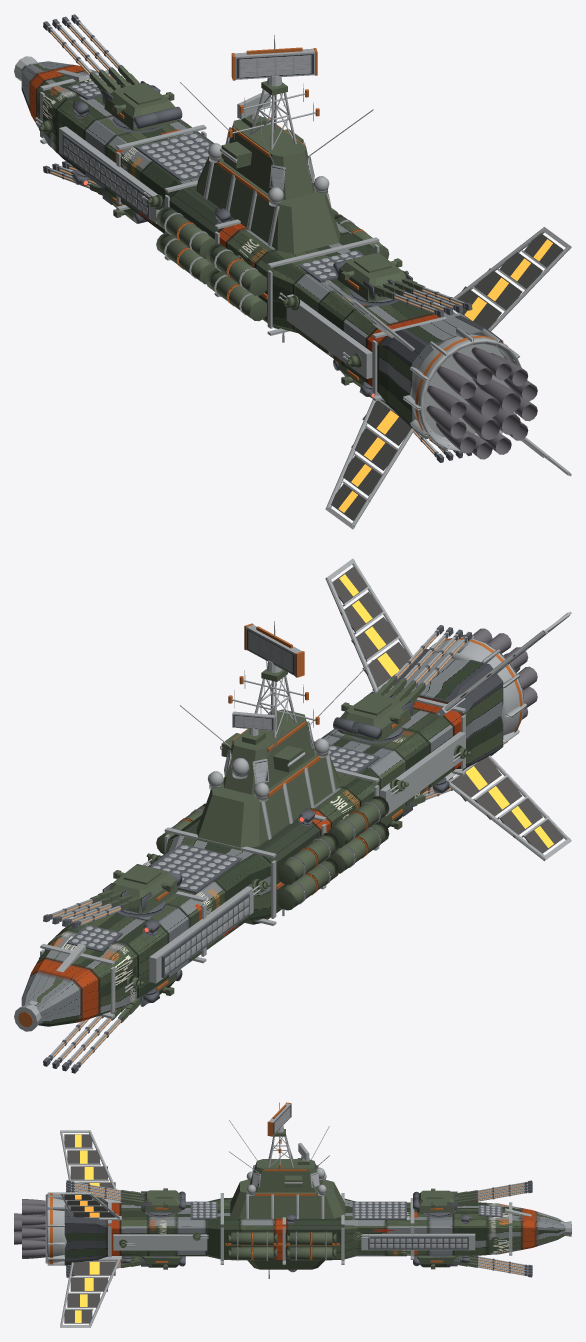
File: soviet_dreadnought_boss_lod.glb
The picture shows the model from 3 angles, top to bottom: view 1: azimuth 30°, elevation 25°; view 2: azimuth 150°, elevation 25°; view 3: azimuth 270°, elevation 25°; orthographic projection. The views are drawn at different scales.
Visible parts, largest first — view 1: KR01_Main_Armored_Hull, KR01_Citadel_Armored_Pagoda, KR01_16x_N1_Engine_Nozzles, KR01_Hull_Steel_Ribs_And_Sponsons, KR01_8x_External_Cryo_Tanks, KR01_Stern_N1_Armored_Shroud, KR01_Citadel_LatticeMast_Antennae, KR01_Radiator_VentralPort_RibbedPanels, KR01_Radiator_DorsalStbd_RibbedPanels, Boss_Turret_QuadRailgun_DorsalFwd_Armored_Gunhouse, Boss_Turret_QuadRailgun_DorsalAft_Armored_Gunhouse, KR01_TopRadar_Dual_PlanarFaces (+16 smaller); view 2: KR01_Main_Armored_Hull, KR01_Citadel_Armored_Pagoda, KR01_Hull_Steel_Ribs_And_Sponsons, KR01_8x_External_Cryo_Tanks, KR01_Citadel_LatticeMast_Antennae, KR01_Radiator_VentralPort_RibbedPanels, KR01_Radiator_DorsalStbd_RibbedPanels, KR01_Stern_N1_Armored_Shroud, Boss_Turret_QuadRailgun_DorsalAft_Armored_Gunhouse, Boss_Turret_QuadRailgun_DorsalFwd_Armored_Gunhouse, Boss_VLS_Battery_FwdDorsal_Main_ArmoredFrame, KR01_Radiator_VentralPort_ArmorFrame (+16 smaller); view 3: KR01_Main_Armored_Hull, KR01_Citadel_Armored_Pagoda, KR01_Hull_Steel_Ribs_And_Sponsons, KR01_8x_External_Cryo_Tanks, KR01_16x_N1_Engine_Nozzles, KR01_Radiator_VentralStbd_RibbedPanels, KR01_Citadel_LatticeMast_Antennae, KR01_Stern_N1_Armored_Shroud, KR01_Radiator_DorsalPort_RibbedPanels, Boss_VLS_Battery_Broadside_Stbd_ArmoredFrame, Boss_VLS_Battery_Broadside_Stbd_BlastHatches, KR01_Radiator_VentralStbd_ArmorFrame (+17 smaller).
Boxes of the visible parts, <box> form: KR01_Main_Armored_Hull: <box>21,61,503,439</box>; KR01_Citadel_Armored_Pagoda: <box>196,81,340,253</box>; KR01_16x_N1_Engine_Nozzles: <box>426,347,537,459</box>; KR01_Hull_Steel_Ribs_And_Sponsons: <box>14,56,459,401</box>; KR01_8x_External_Cryo_Tanks: <box>156,207,389,321</box>; KR01_Stern_N1_Armored_Shroud: <box>403,327,521,452</box>; KR01_Citadel_LatticeMast_Antennae: <box>180,82,373,246</box>; KR01_Radiator_VentralPort_RibbedPanels: <box>331,400,410,520</box>; KR01_Radiator_DorsalStbd_RibbedPanels: <box>457,233,563,329</box>; Boss_Turret_QuadRailgun_DorsalFwd_Armored_Gunhouse: <box>104,83,177,130</box>; Boss_Turret_QuadRailgun_DorsalAft_Armored_Gunhouse: <box>337,253,406,301</box>; KR01_TopRadar_Dual_PlanarFaces: <box>236,54,313,78</box>; KR01_Main_Armored_Hull: <box>21,648,503,1026</box>; KR01_Citadel_Armored_Pagoda: <box>196,669,340,850</box>; KR01_Hull_Steel_Ribs_And_Sponsons: <box>14,688,465,1031</box>; KR01_8x_External_Cryo_Tanks: <box>156,796,389,910</box>; KR01_Citadel_LatticeMast_Antennae: <box>179,660,373,839</box>; KR01_Radiator_VentralPort_RibbedPanels: <box>451,757,563,853</box>; KR01_Radiator_DorsalStbd_RibbedPanels: <box>332,567,410,687</box>; KR01_Stern_N1_Armored_Shroud: <box>429,635,526,743</box>; Boss_Turret_QuadRailgun_DorsalAft_Armored_Gunhouse: <box>337,694,410,741</box>; Boss_Turret_QuadRailgun_DorsalFwd_Armored_Gunhouse: <box>109,865,177,913</box>; Boss_VLS_Battery_FwdDorsal_Main_ArmoredFrame: <box>150,843,242,893</box>; KR01_Radiator_VentralPort_ArmorFrame: <box>444,755,571,860</box>; KR01_Main_Armored_Hull: <box>64,1197,565,1265</box>; KR01_Citadel_Armored_Pagoda: <box>230,1129,345,1218</box>; KR01_Hull_Steel_Ribs_And_Sponsons: <box>108,1193,571,1264</box>; KR01_8x_External_Cryo_Tanks: <box>227,1197,336,1260</box>; KR01_16x_N1_Engine_Nozzles: <box>14,1199,45,1258</box>; KR01_Radiator_VentralStbd_RibbedPanels: <box>64,1261,115,1323</box>; KR01_Citadel_LatticeMast_Antennae: <box>229,1120,329,1218</box>; KR01_Stern_N1_Armored_Shroud: <box>45,1192,67,1265</box>; KR01_Radiator_DorsalPort_RibbedPanels: <box>64,1134,115,1188</box>; Boss_VLS_Battery_Broadside_Stbd_ArmoredFrame: <box>368,1236,468,1249</box>; Boss_VLS_Battery_Broadside_Stbd_BlastHatches: <box>369,1238,467,1248</box>; KR01_Radiator_VentralStbd_ArmorFrame: <box>60,1256,121,1327</box>.
Size of the model in its own units: 44.55 by 63.97 by 166.
Materials: 12 (2 with a texture image).
